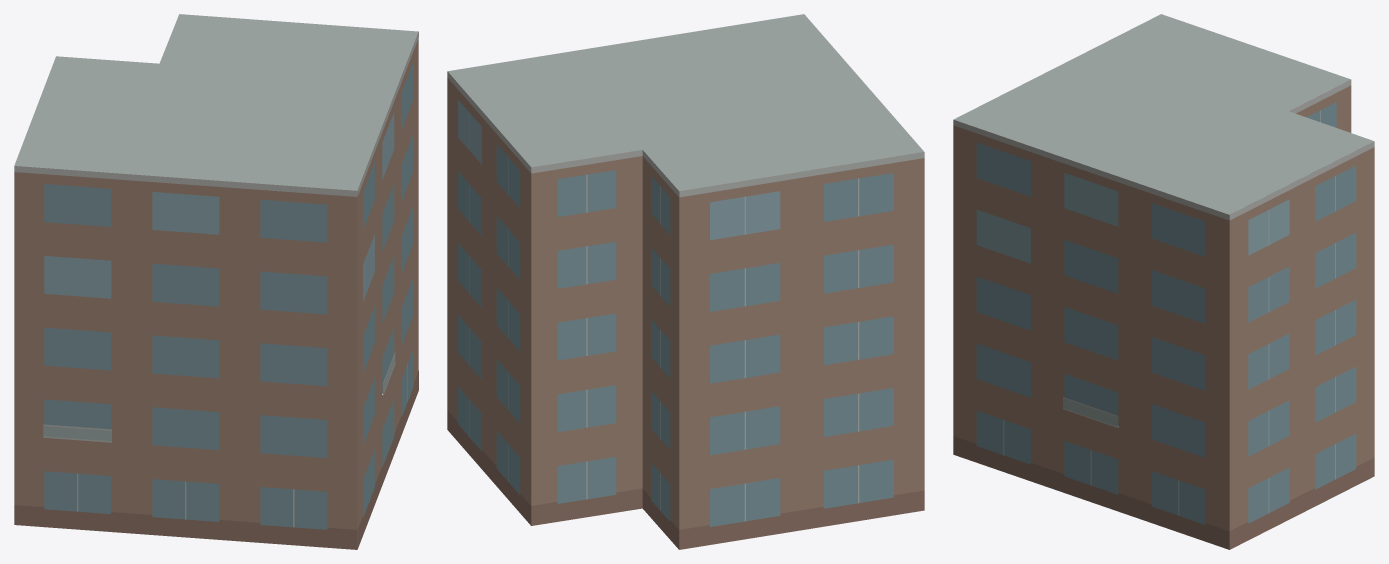
Rendered from survey-upis-32708680.glb.
3 renders of one model, left to right at view 1: azimuth 30°, elevation 25°; view 2: azimuth 150°, elevation 25°; view 3: azimuth 270°, elevation 25°, orthographic. The views are drawn at different scales.
Parts seen in each view (by area): view 1: survey-upis-32708680.tmp; view 2: survey-upis-32708680.tmp; view 3: survey-upis-32708680.tmp.
Boxes of the visible parts, x1,y1,x2,y2 form: survey-upis-32708680.tmp: [14, 14, 418, 549]; survey-upis-32708680.tmp: [447, 14, 924, 549]; survey-upis-32708680.tmp: [953, 14, 1374, 549].
Size of the model in its own units: 18.46 by 14.35 by 16.36.
